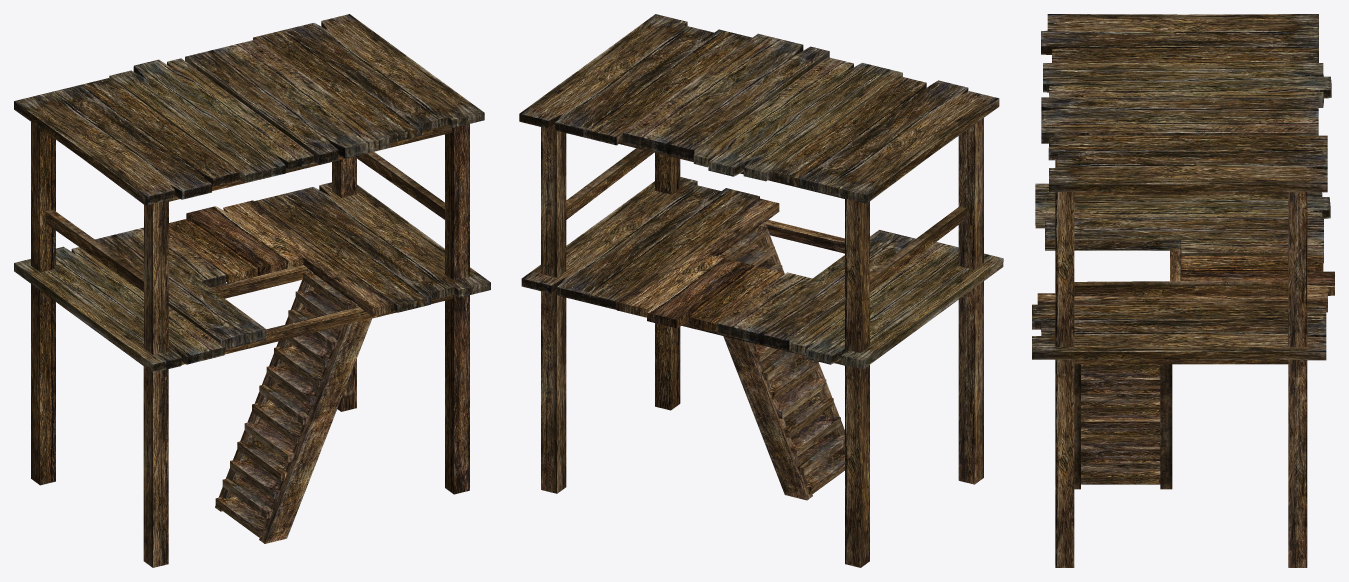
Rendered from hrt_ladder1.glb.
3 views of the same model, side by side, from view 1: azimuth 30°, elevation 25°; view 2: azimuth 150°, elevation 25°; view 3: azimuth 270°, elevation 25° (orthographic). The views are drawn at different scales.
Visible parts, largest first — view 1: hrt_ladder1-col; view 2: hrt_ladder1-col; view 3: hrt_ladder1-col.
Boxes of the visible parts, bbox=[...] form: hrt_ladder1-col: bbox=[14, 14, 490, 567]; hrt_ladder1-col: bbox=[519, 14, 1003, 567]; hrt_ladder1-col: bbox=[1032, 14, 1334, 567].
Bounding box in the file's own units: 6.44 × 7.04 × 4.81.
Materials: 4 (4 with a texture image).
